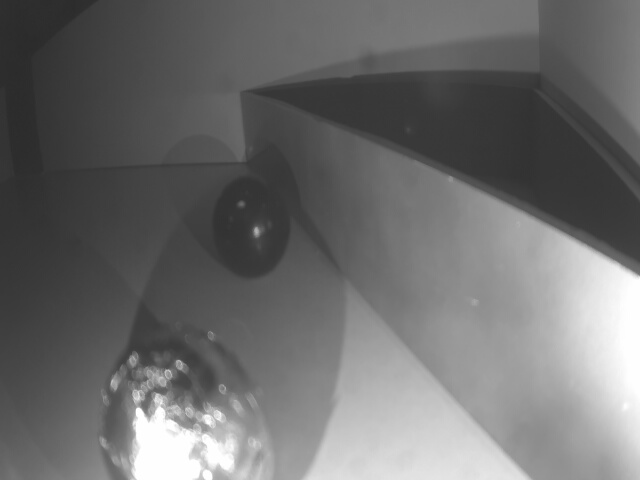Dead: (214, 178, 290, 280)
Green: (239, 91, 640, 480)
Live: (101, 331, 275, 480)
